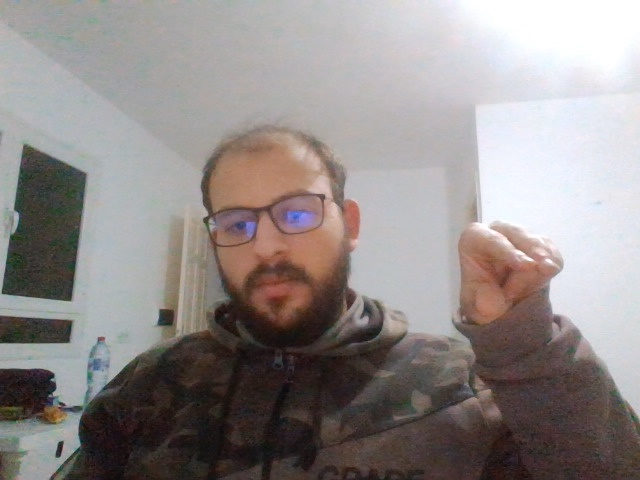No: (457, 225, 565, 322)
